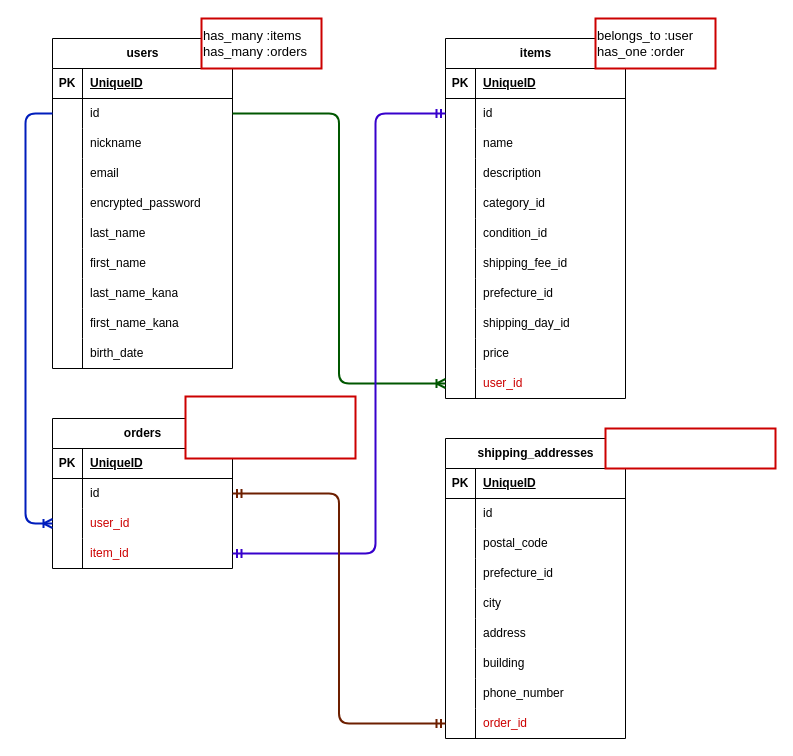
Image size: 793x756. Some labels were removed from this diagram. The centre of each missing label's shape, as x and y in pixels:
"belongs_to :order" goes at [690,448].
"belongs_to :user belongs_to :item has_one :shipping_address" goes at [270,427].
